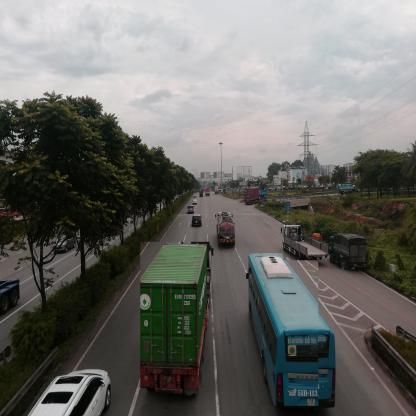bus: (250, 254, 320, 407)
car: (44, 370, 112, 416), (194, 218, 202, 228), (188, 206, 194, 216)
container: (141, 243, 211, 389), (246, 190, 269, 206)
truck: (284, 226, 327, 262), (331, 235, 367, 271), (215, 213, 236, 249), (340, 185, 360, 197)
